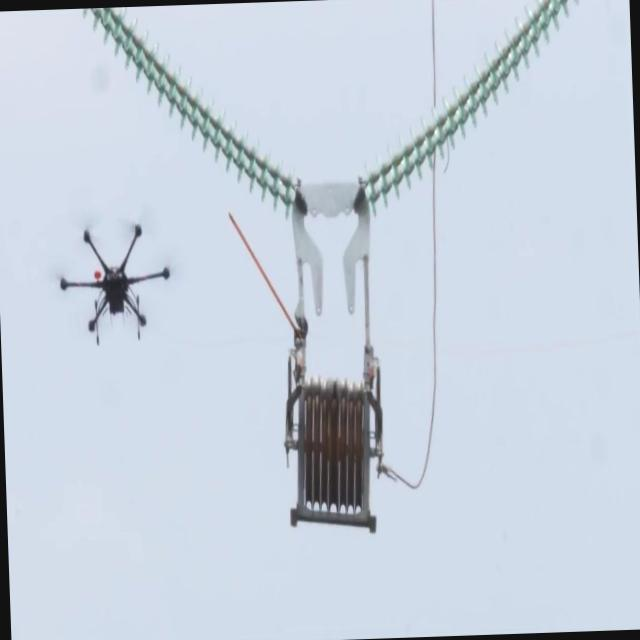drone: (52, 221, 176, 356)
